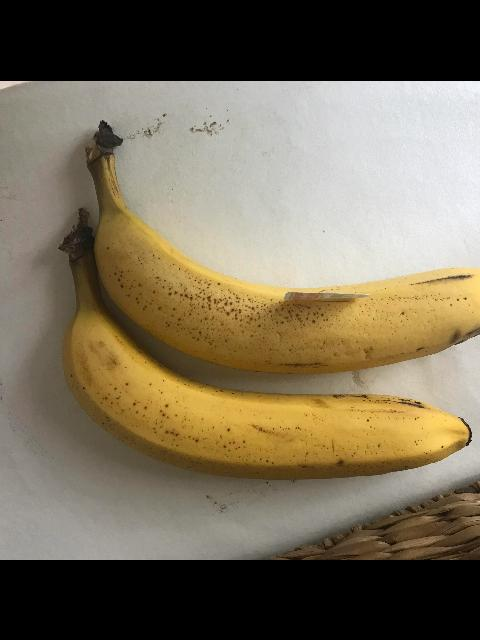Bananas: (85, 127, 480, 374), (70, 306, 472, 474)
